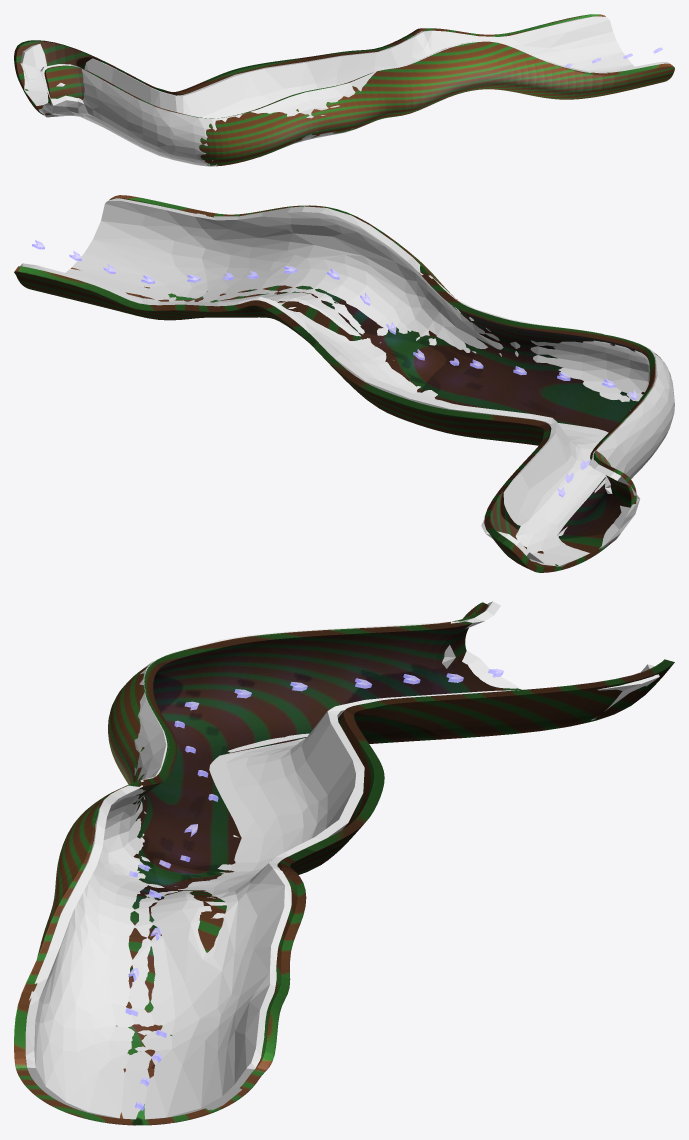
The model's file is space_course_2.glb.
The picture shows the model from 3 angles, top to bottom: view 1: azimuth 30°, elevation 25°; view 2: azimuth 150°, elevation 25°; view 3: azimuth 270°, elevation 25°; orthographic projection. The views are drawn at different scales.
Parts seen in each view (by area): view 1: CourseFloor_Phys, CourseFloor; view 2: CourseFloor_Phys, CourseFloor; view 3: CourseFloor_Phys, CourseFloor.
Boxes of the visible parts, x1,y1,x2,y2 form: CourseFloor_Phys: (20, 16, 669, 166); CourseFloor: (14, 14, 674, 166); CourseFloor_Phys: (20, 198, 674, 566); CourseFloor: (14, 195, 670, 572); CourseFloor_Phys: (25, 601, 659, 1125); CourseFloor: (14, 602, 674, 1125).
Bounding box in the file's own units: 10.18 × 1.59 × 6.32.
2 materials, 1 textured.
